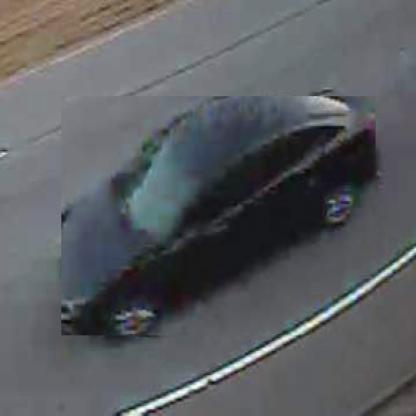car: (61, 97, 377, 338)
